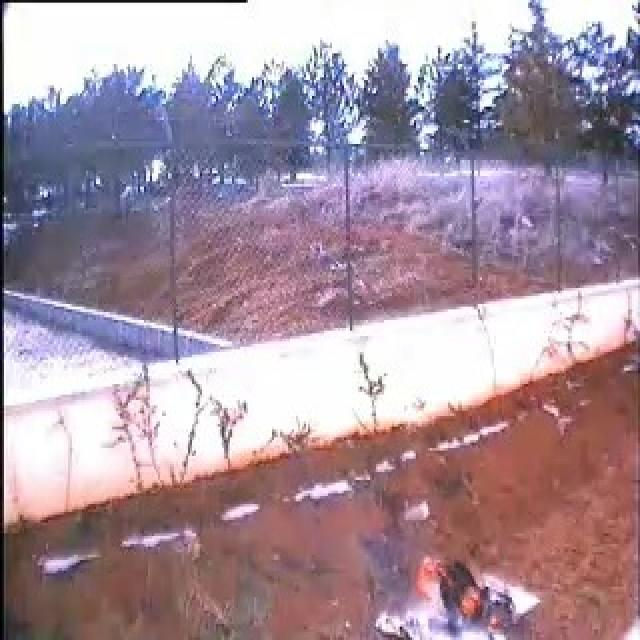fire: (417, 560, 442, 604)
smoke: (372, 533, 398, 577)
